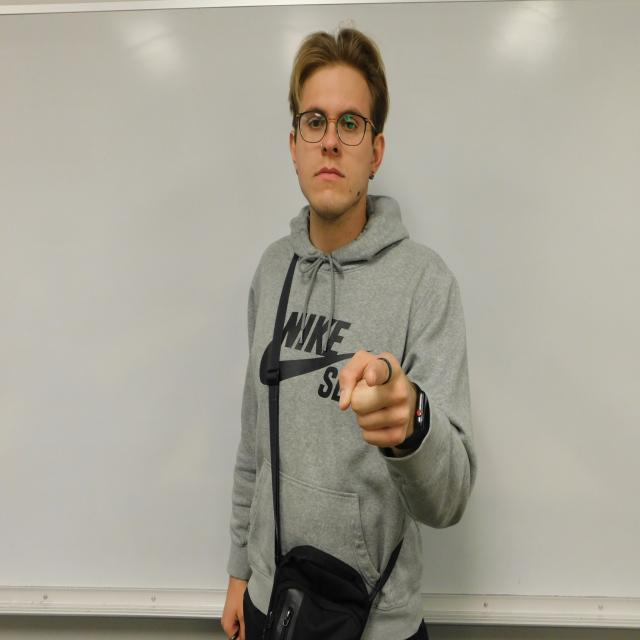you: (339, 350, 413, 448)
